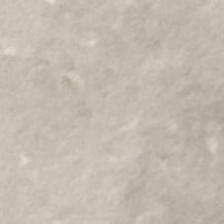Non_Crack: (24, 27, 200, 192)
